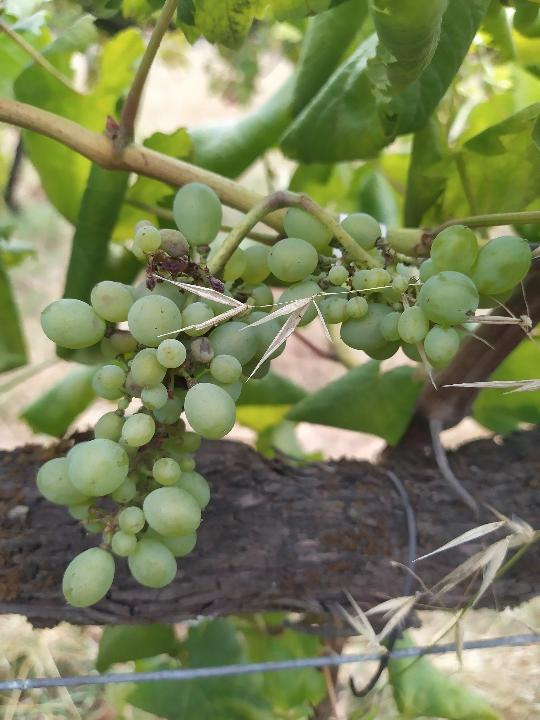grape: (28, 181, 536, 607)
